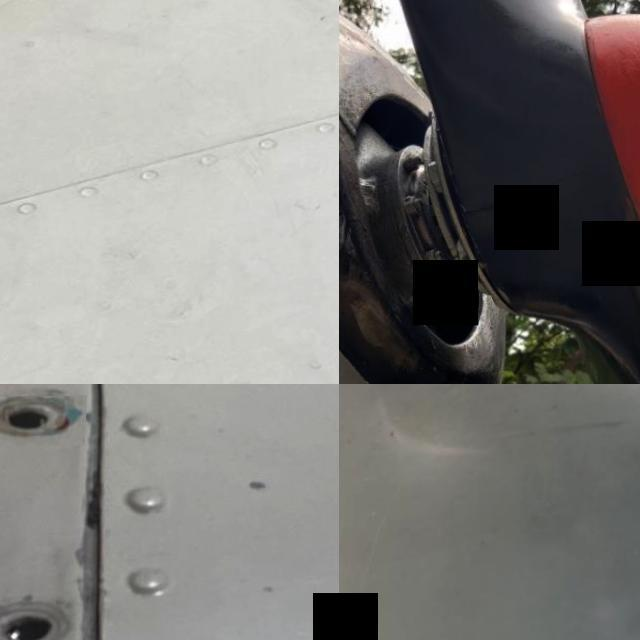Crack: (458, 162, 600, 230)
Dent: (339, 384, 540, 487)
Missing_Fastener: (0, 395, 89, 446), (0, 604, 75, 640)
